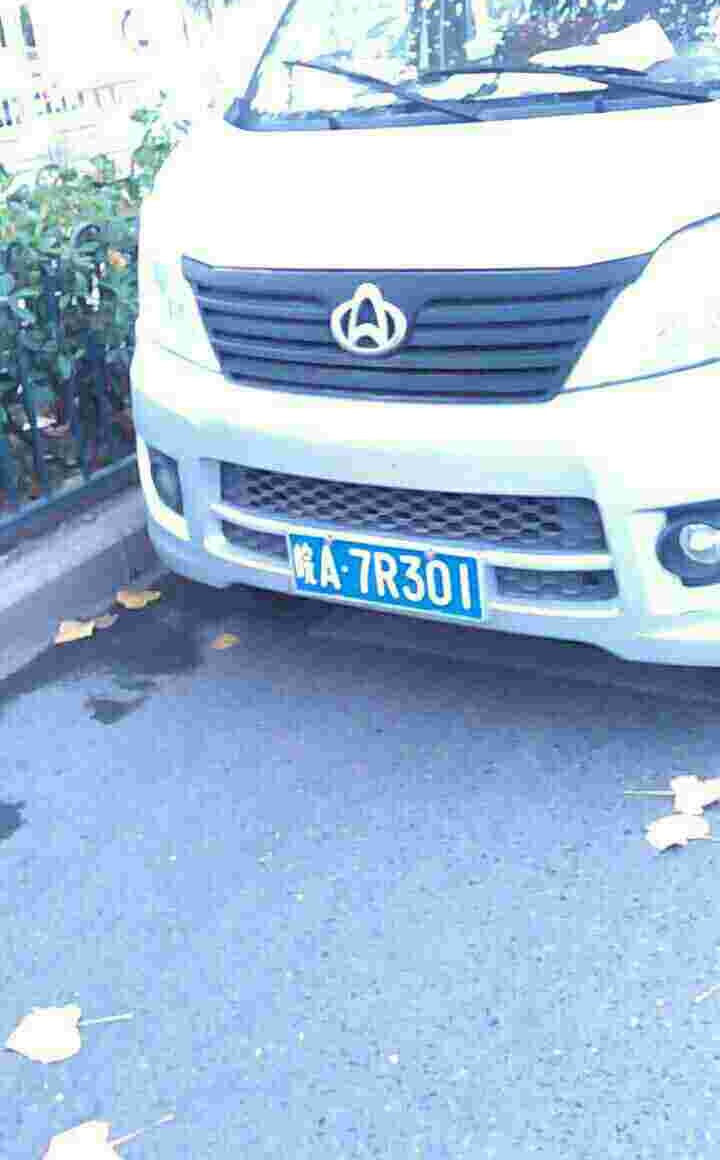plate: (282, 523, 490, 627)
